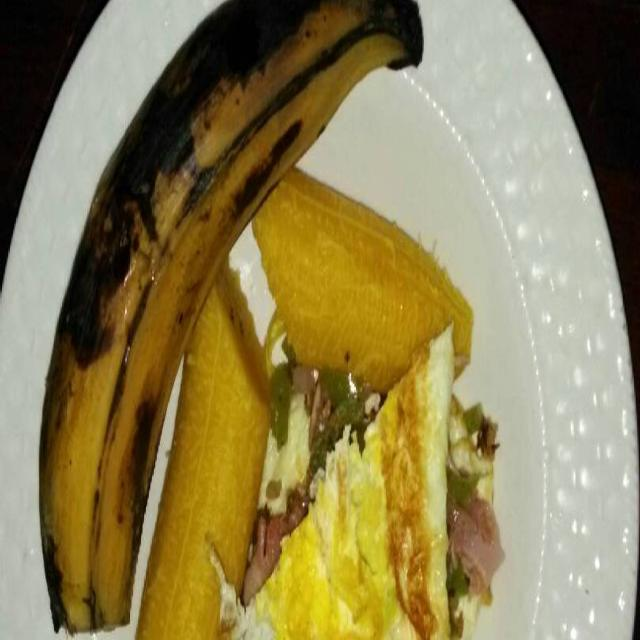platano: (249, 141, 476, 437)
